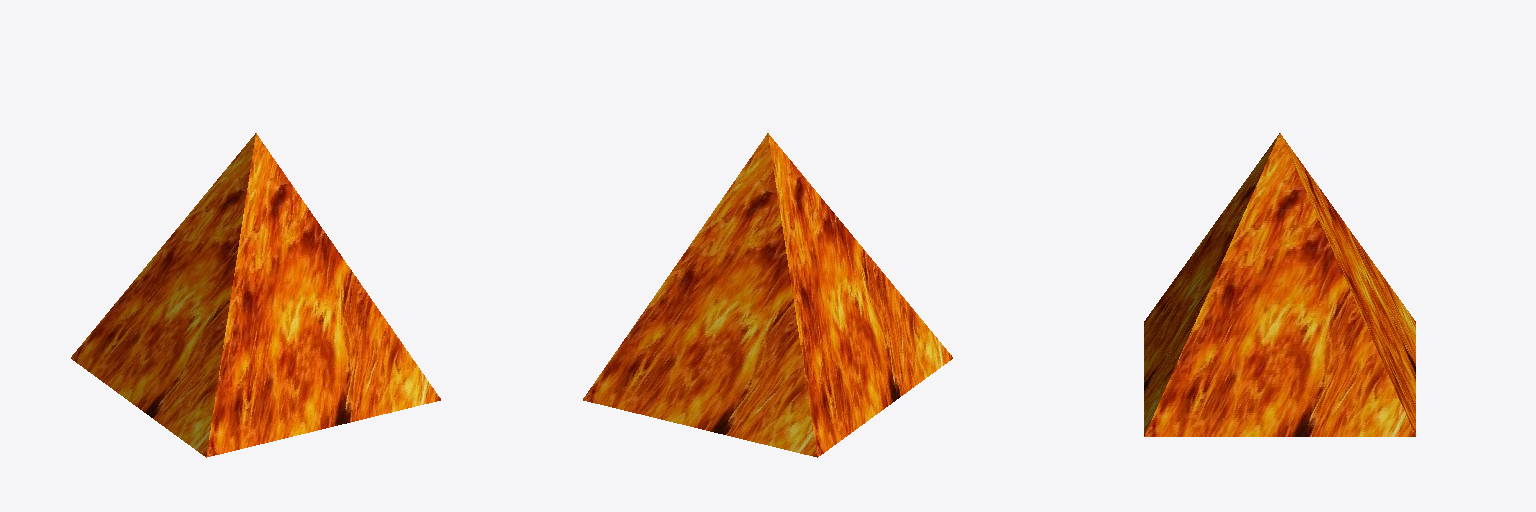
3 renders of one model, left to right at view 1: azimuth 30°, elevation 25°; view 2: azimuth 150°, elevation 25°; view 3: azimuth 270°, elevation 25°, orthographic.
Parts seen in each view (by area): view 1: Pyramid; view 2: Pyramid; view 3: Pyramid.
Part boxes in pixels (bbox=[...]): Pyramid: bbox=[71, 133, 440, 457]; Pyramid: bbox=[583, 133, 952, 457]; Pyramid: bbox=[1144, 133, 1415, 436].
Size of the model in its own units: 47 by 47 by 47.
Materials: 1 (1 with a texture image).